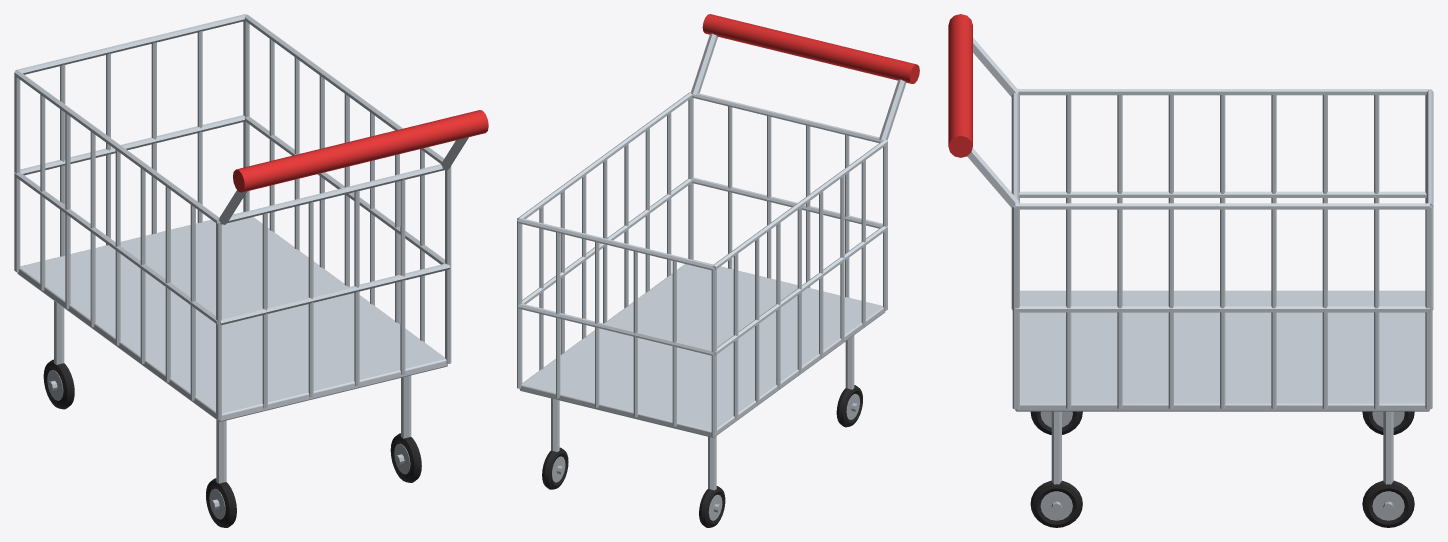
The model's file is chair_cart.glb.
3 renders of one model, left to right at view 1: azimuth 30°, elevation 25°; view 2: azimuth 150°, elevation 25°; view 3: azimuth 270°, elevation 25°, orthographic. The views are drawn at different scales.
Parts seen in each view (by area): view 1: Frame, CasterL, CasterBL, CasterBR; view 2: Frame, CasterR, CasterL, CasterBL; view 3: Frame, CasterR, CasterBR, CasterL, CasterBL.
Boxes of the visible parts, box(x1,y1,x2,y2) form: Frame: box(14, 14, 488, 483); CasterL: box(43, 359, 74, 409); CasterBL: box(206, 478, 236, 527); CasterBR: box(390, 433, 421, 482); Frame: box(517, 14, 919, 490); CasterR: box(542, 447, 568, 489); CasterL: box(699, 486, 725, 527); CasterBL: box(836, 385, 862, 427); Frame: box(948, 14, 1433, 491); CasterR: box(1362, 480, 1414, 527); CasterBR: box(1030, 480, 1082, 527); CasterL: box(1362, 411, 1414, 434); CasterBL: box(1030, 411, 1082, 434).
Size of the model in its own units: 0.66 by 1.03 by 1.11.
